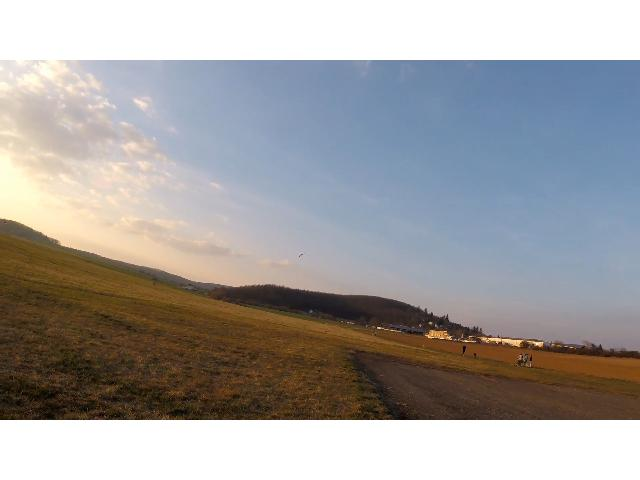Anti-Drone: (294, 250, 308, 262)
